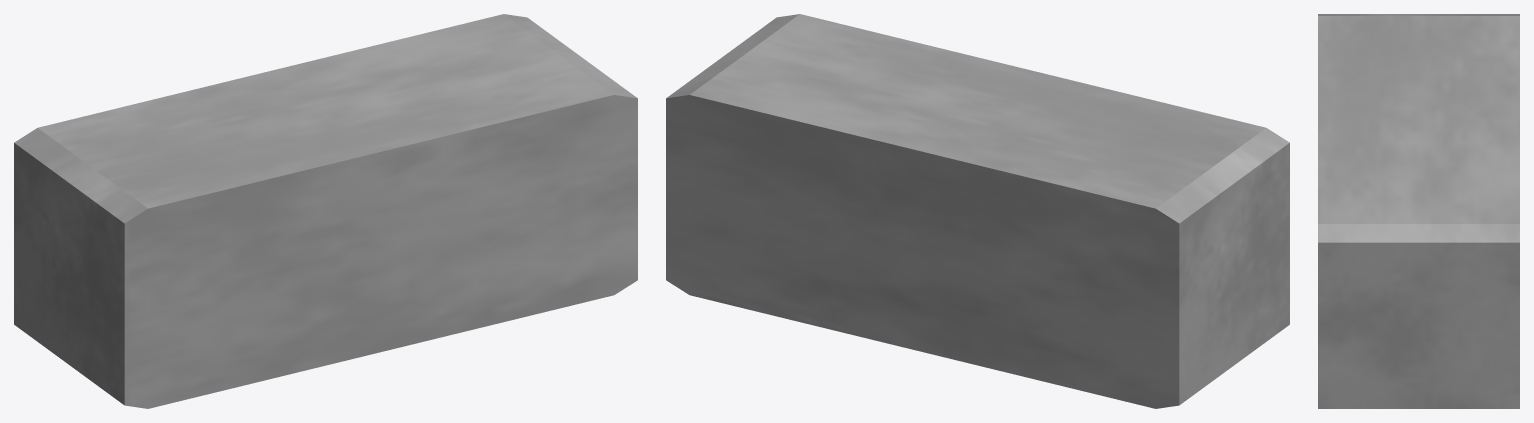
File: road_curb_mesh.fbx
The picture shows the model from 3 angles, left to right: view 1: azimuth 30°, elevation 25°; view 2: azimuth 150°, elevation 25°; view 3: azimuth 270°, elevation 25°; orthographic projection. The views are drawn at different scales.
Visible parts, largest first — view 1: Cube; view 2: Cube; view 3: Cube.
Boxes of the visible parts, x1,y1,x2,y2 form: Cube: (14,14,637,408); Cube: (666,14,1289,408); Cube: (1318,14,1519,408).
Bounding box in the file's own units: 536 × 200 × 200.
